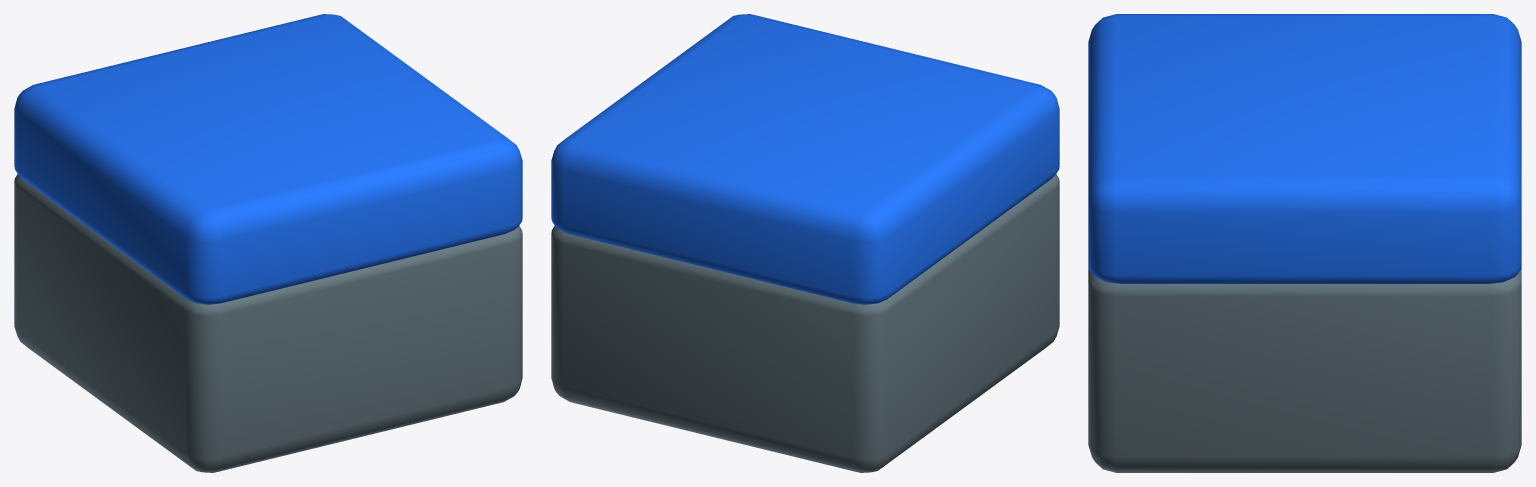
File: tile_blue.obj
The picture shows the model from 3 angles, left to right: view 1: azimuth 30°, elevation 25°; view 2: azimuth 150°, elevation 25°; view 3: azimuth 270°, elevation 25°; orthographic projection. The views are drawn at different scales.
Visible parts, largest first — view 1: tileMedium_teamBlue_Cube.1616; view 2: tileMedium_teamBlue_Cube.1616; view 3: tileMedium_teamBlue_Cube.1616.
Part boxes in pixels (left/top/right/bottom): tileMedium_teamBlue_Cube.1616: left=14, top=14, right=522, bottom=472; tileMedium_teamBlue_Cube.1616: left=551, top=14, right=1059, bottom=472; tileMedium_teamBlue_Cube.1616: left=1088, top=14, right=1521, bottom=472.
Bounding box in the file's own units: 2 × 1.5 × 2.
